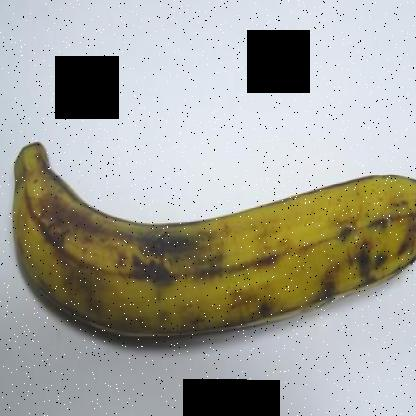overripe: (1, 133, 415, 362)
